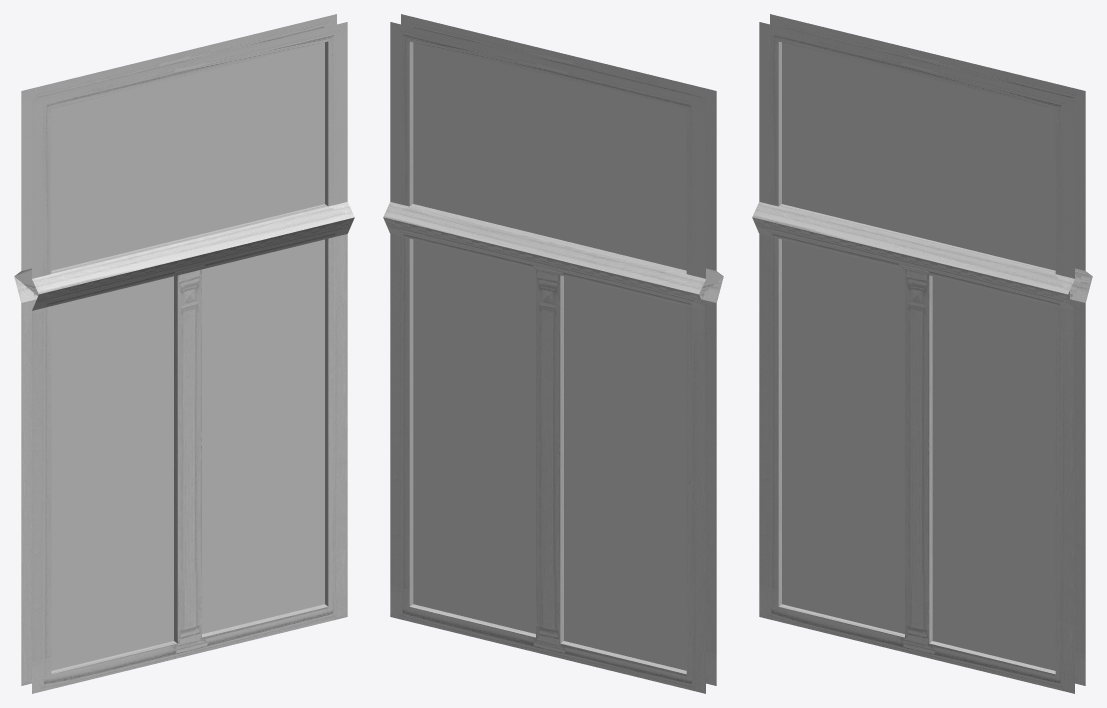
File: Window1C.fbx
The picture shows the model from 3 angles, left to right: view 1: azimuth 30°, elevation 25°; view 2: azimuth 150°, elevation 25°; view 3: azimuth 330°, elevation 25°; orthographic projection.
Parts seen in each view (by area): view 1: Window1C; view 2: Window1C; view 3: Window1C.
Part boxes in pixels (x1,y1,x2,y2): Window1C: (14,14,354,693); Window1C: (383,14,723,693); Window1C: (752,14,1092,693).
Size of the model in its own units: 100 by 180 by 13.57.
